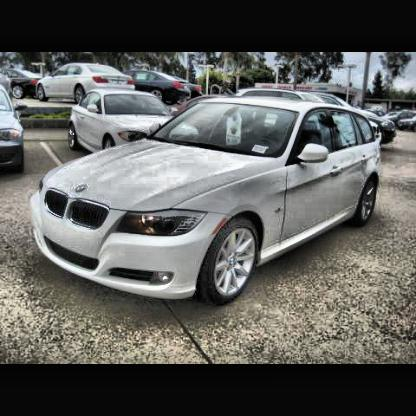BMW 3 Series Wagon 2012: (29, 96, 386, 315)
